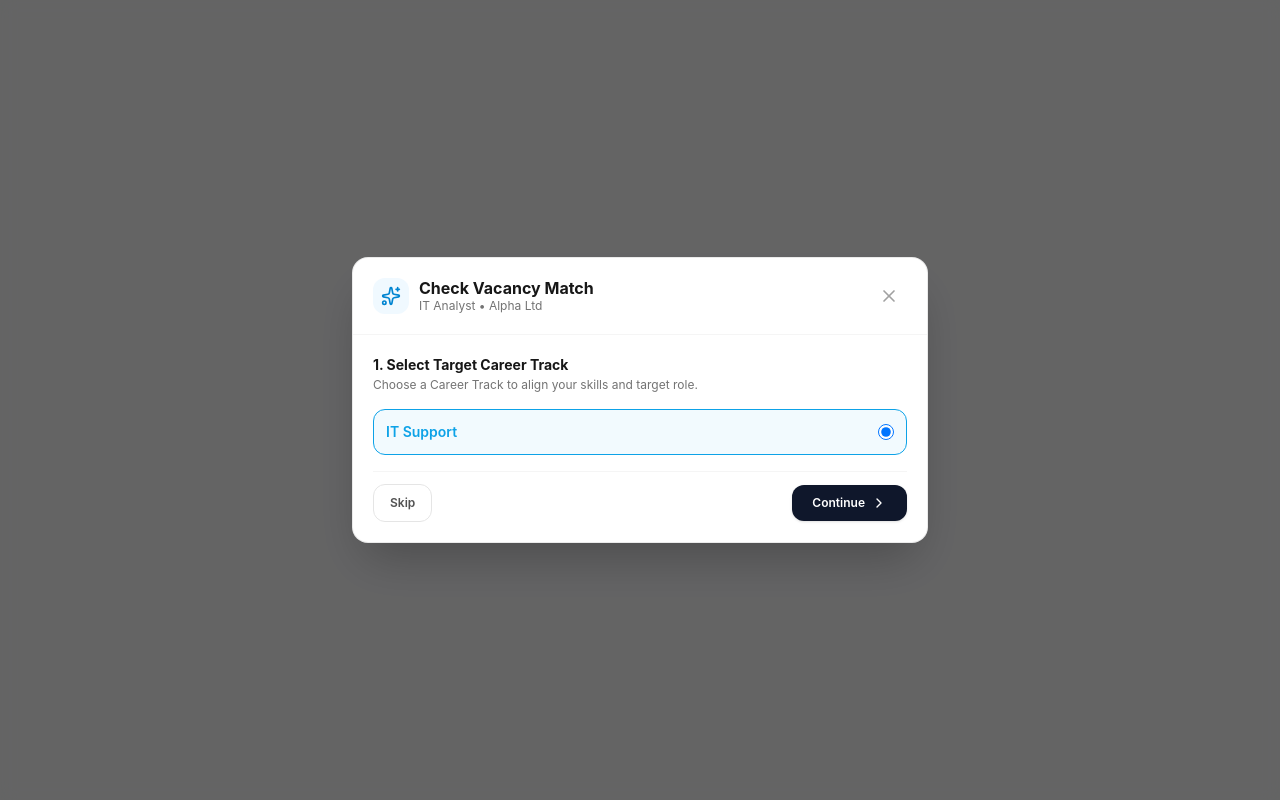
Test: validation before a paste is accepted › blocks Continue until either a paste is saved or the warning is accepted
Click the button "Continue" at [850, 503], box [792,485,907,521]
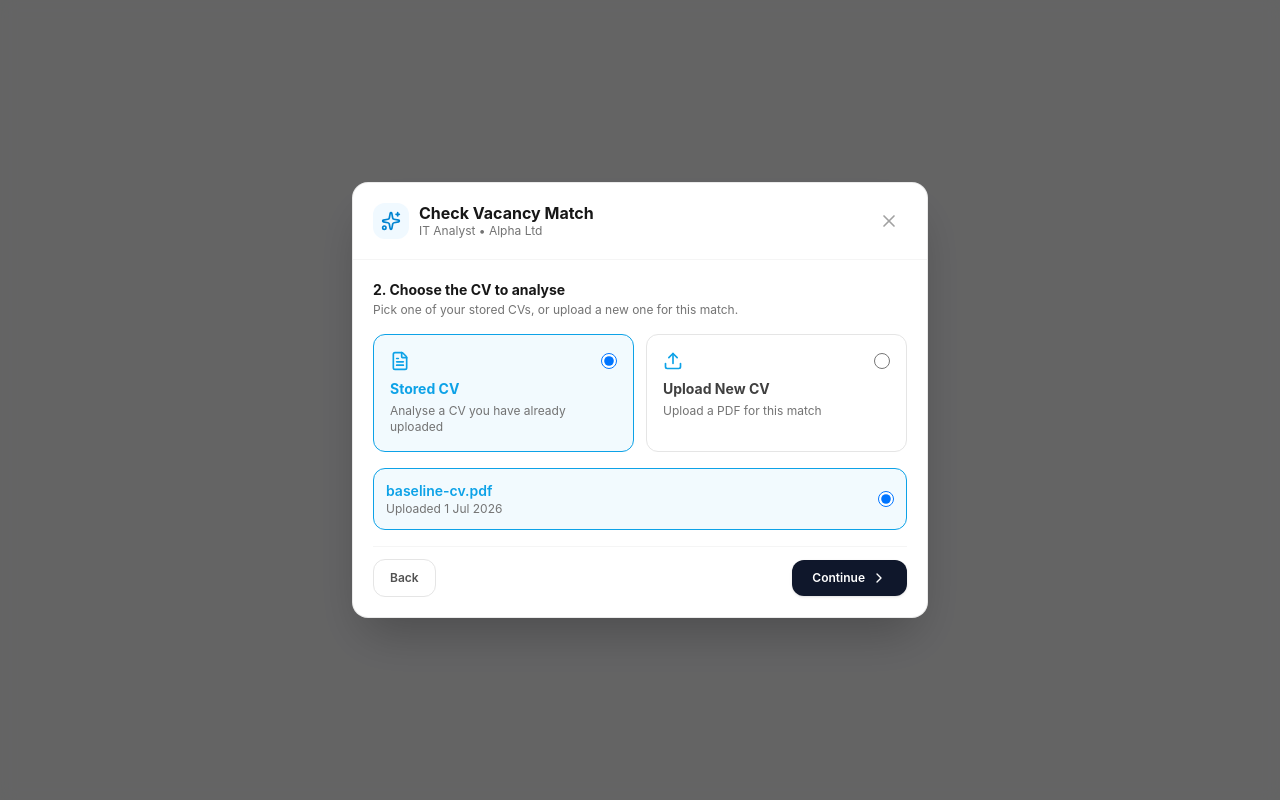
Expected: the radio button labelled "baseline-cv.pdf Uploaded 1 Jul 2026" is shown, [878,491,894,507]
Click the button "Continue" at [850, 578], box [792,560,907,596]
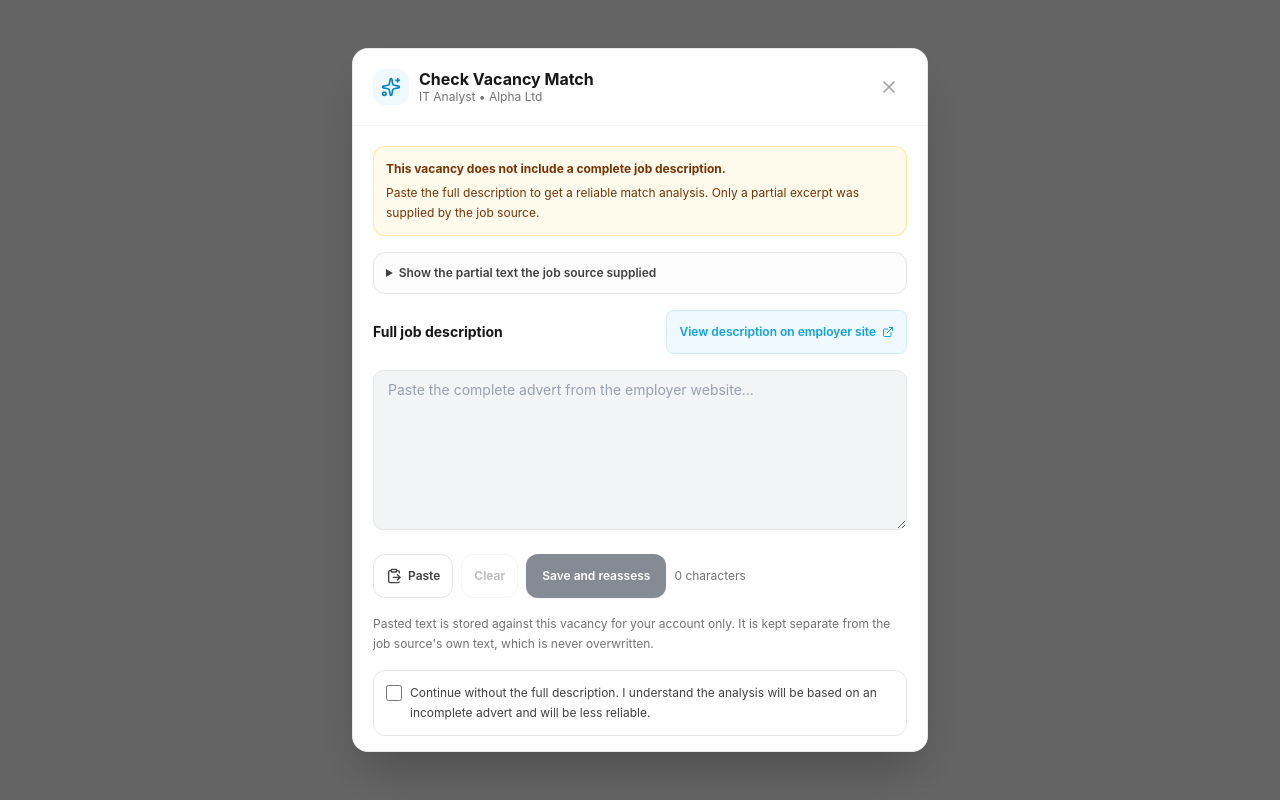
Click the checkbox labelled "Continue without the full description" at [394, 693], box [386,685,402,701]
(page scrolled)
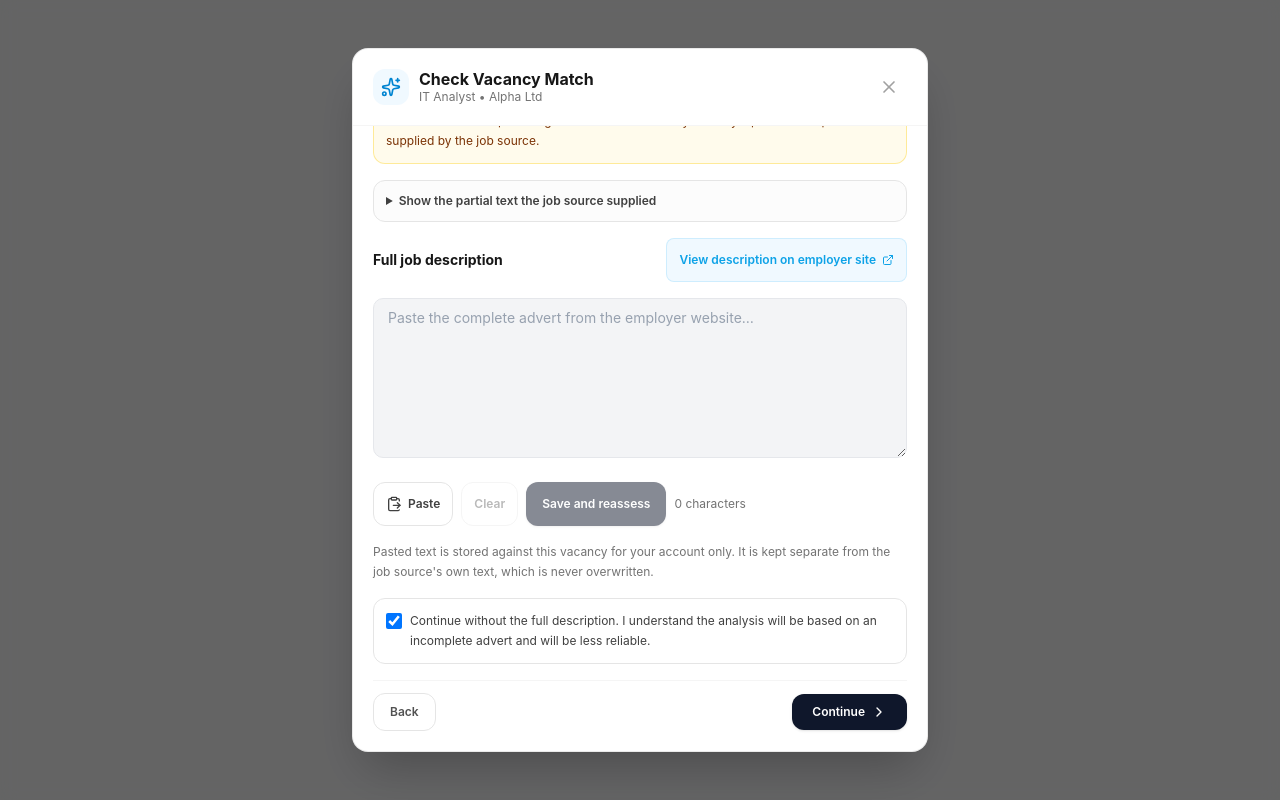
Expected: the button "Continue" is enabled, [792,694,907,730]
